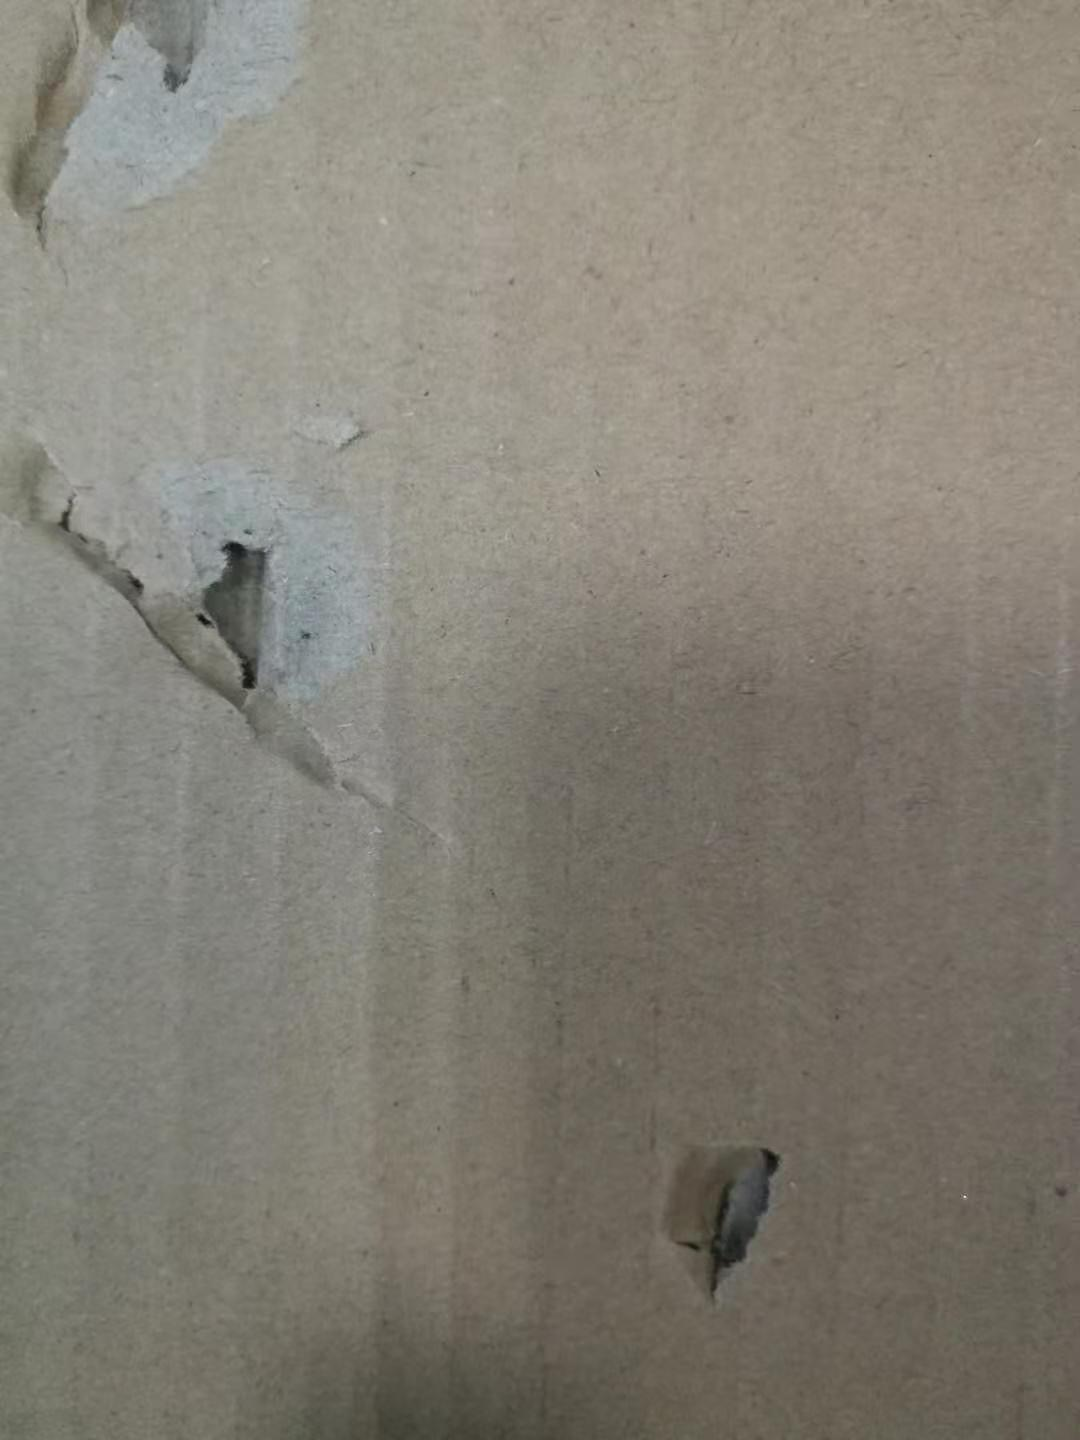defect: (3, 375, 472, 895), (3, 1, 369, 304), (619, 1084, 820, 1324)
